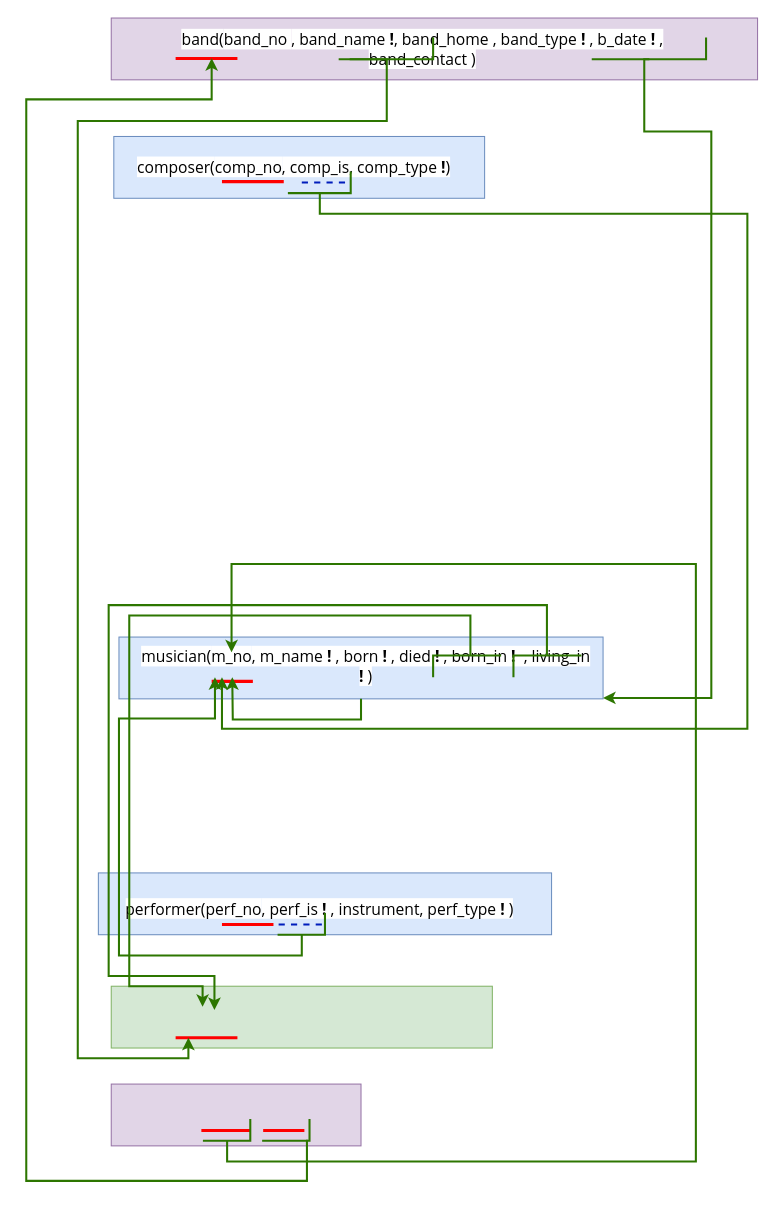
Some shapes in this 776 by 1208 pixel diagram are drawn without their labels. The shapes that lost their labels are listed below. From the top down, each one's centre as x and y in pixels, then its label:
At [301,1016]: "place( place_no , place_town ! , place_country ! )".
At [235,1114]: "plays_in( player , band_id )".
